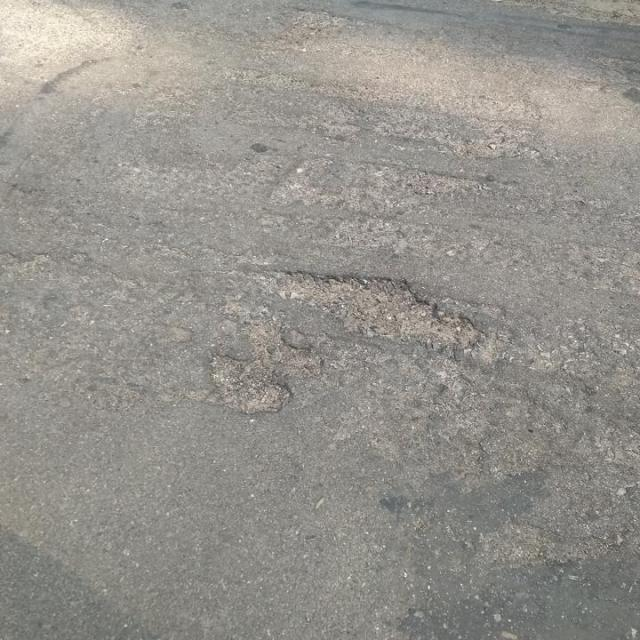pothole: (260, 266, 488, 352), (206, 351, 295, 415)
